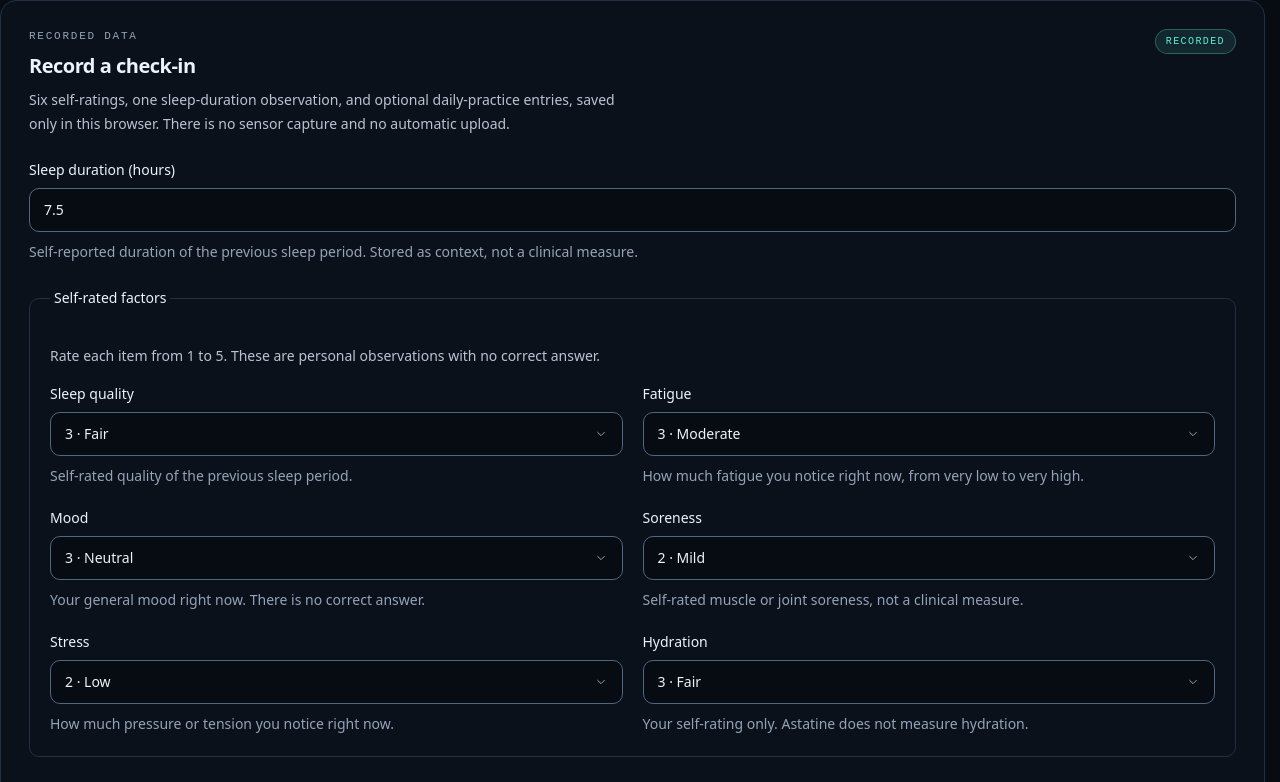
CheckInForm › saves a locally recorded check-in with the chosen ratings
Select "5 · Very high" in the dropdown labelled "Fatigue" at (929, 434), box [642,412,1215,456]
(page scrolled)
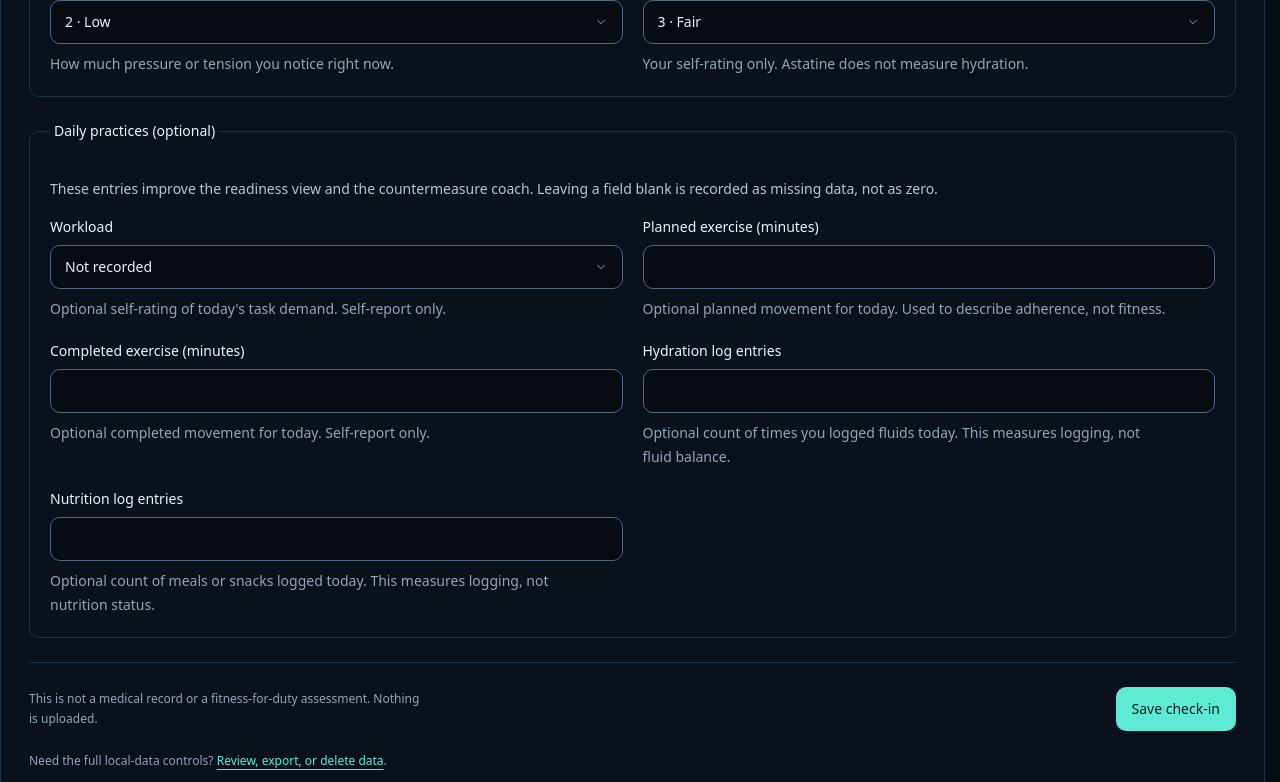
Click the button "Save check-in" at (1176, 709), box [1116,687,1236,731]
(page scrolled)
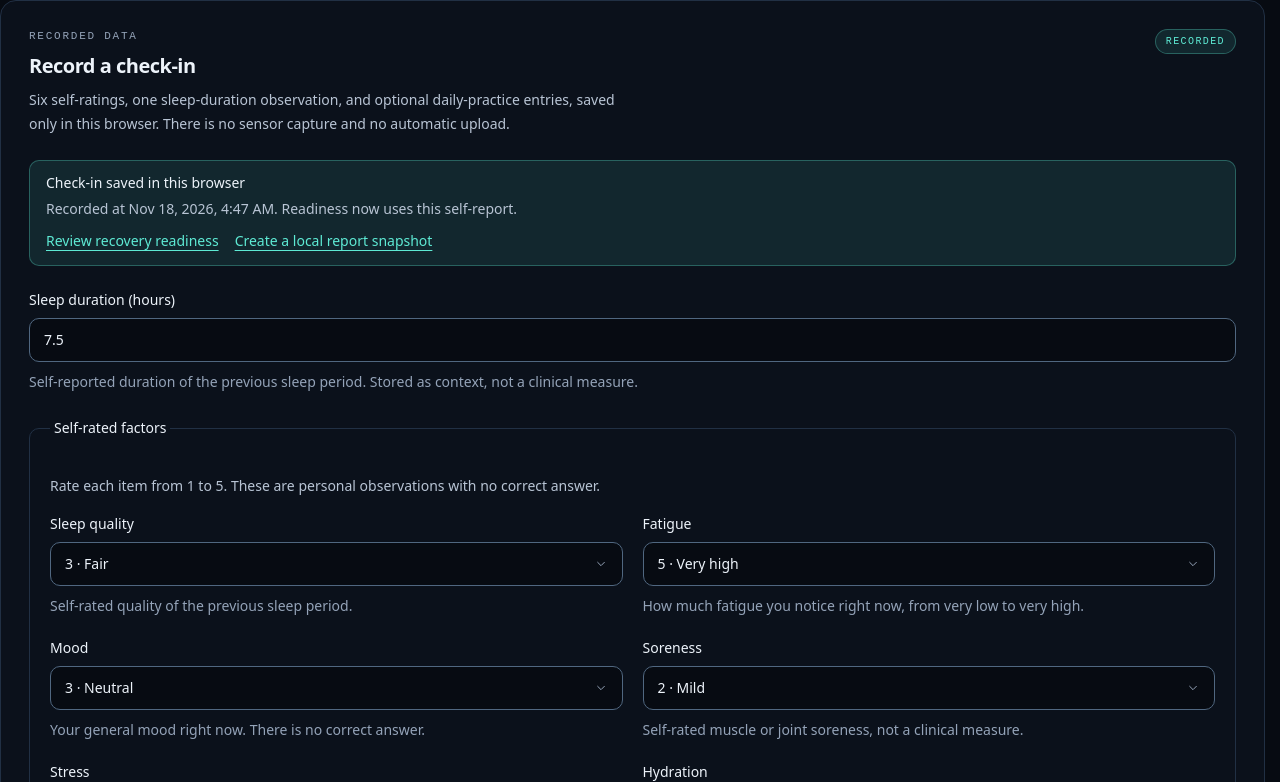
Expected: the text "Check-in saved in this browser" is shown, [46,173,245,192]
